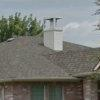Chimney: (36, 12, 69, 51)
